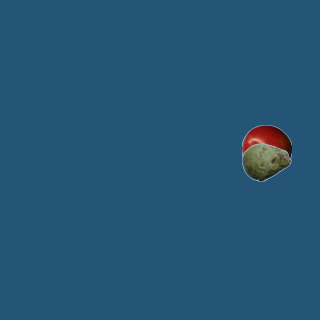Apple Braeburn: (241, 124, 291, 174)
Pear Stone: (241, 137, 291, 187)
